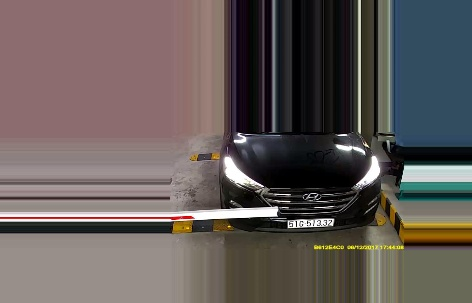plate: (284, 216, 336, 230)
